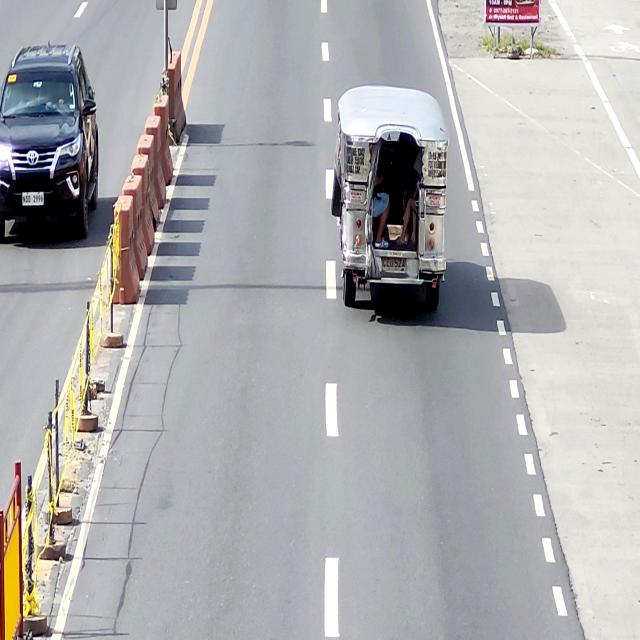Car: (0, 41, 99, 241)
Jeep: (330, 82, 450, 311)
License-Plate: (378, 253, 410, 277), (20, 185, 46, 211)
